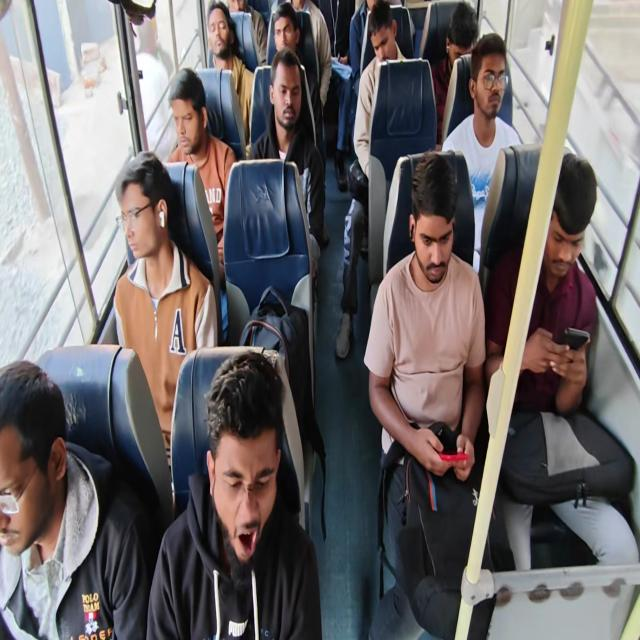person: (176, 375, 282, 562), (0, 362, 61, 640), (119, 158, 178, 334), (406, 170, 467, 312), (172, 66, 226, 207), (538, 182, 594, 314), (265, 56, 308, 147), (319, 0, 366, 79), (474, 53, 520, 132), (371, 12, 408, 86), (210, 0, 248, 67), (442, 9, 485, 66), (269, 11, 306, 71), (351, 0, 376, 27), (230, 0, 256, 25)
